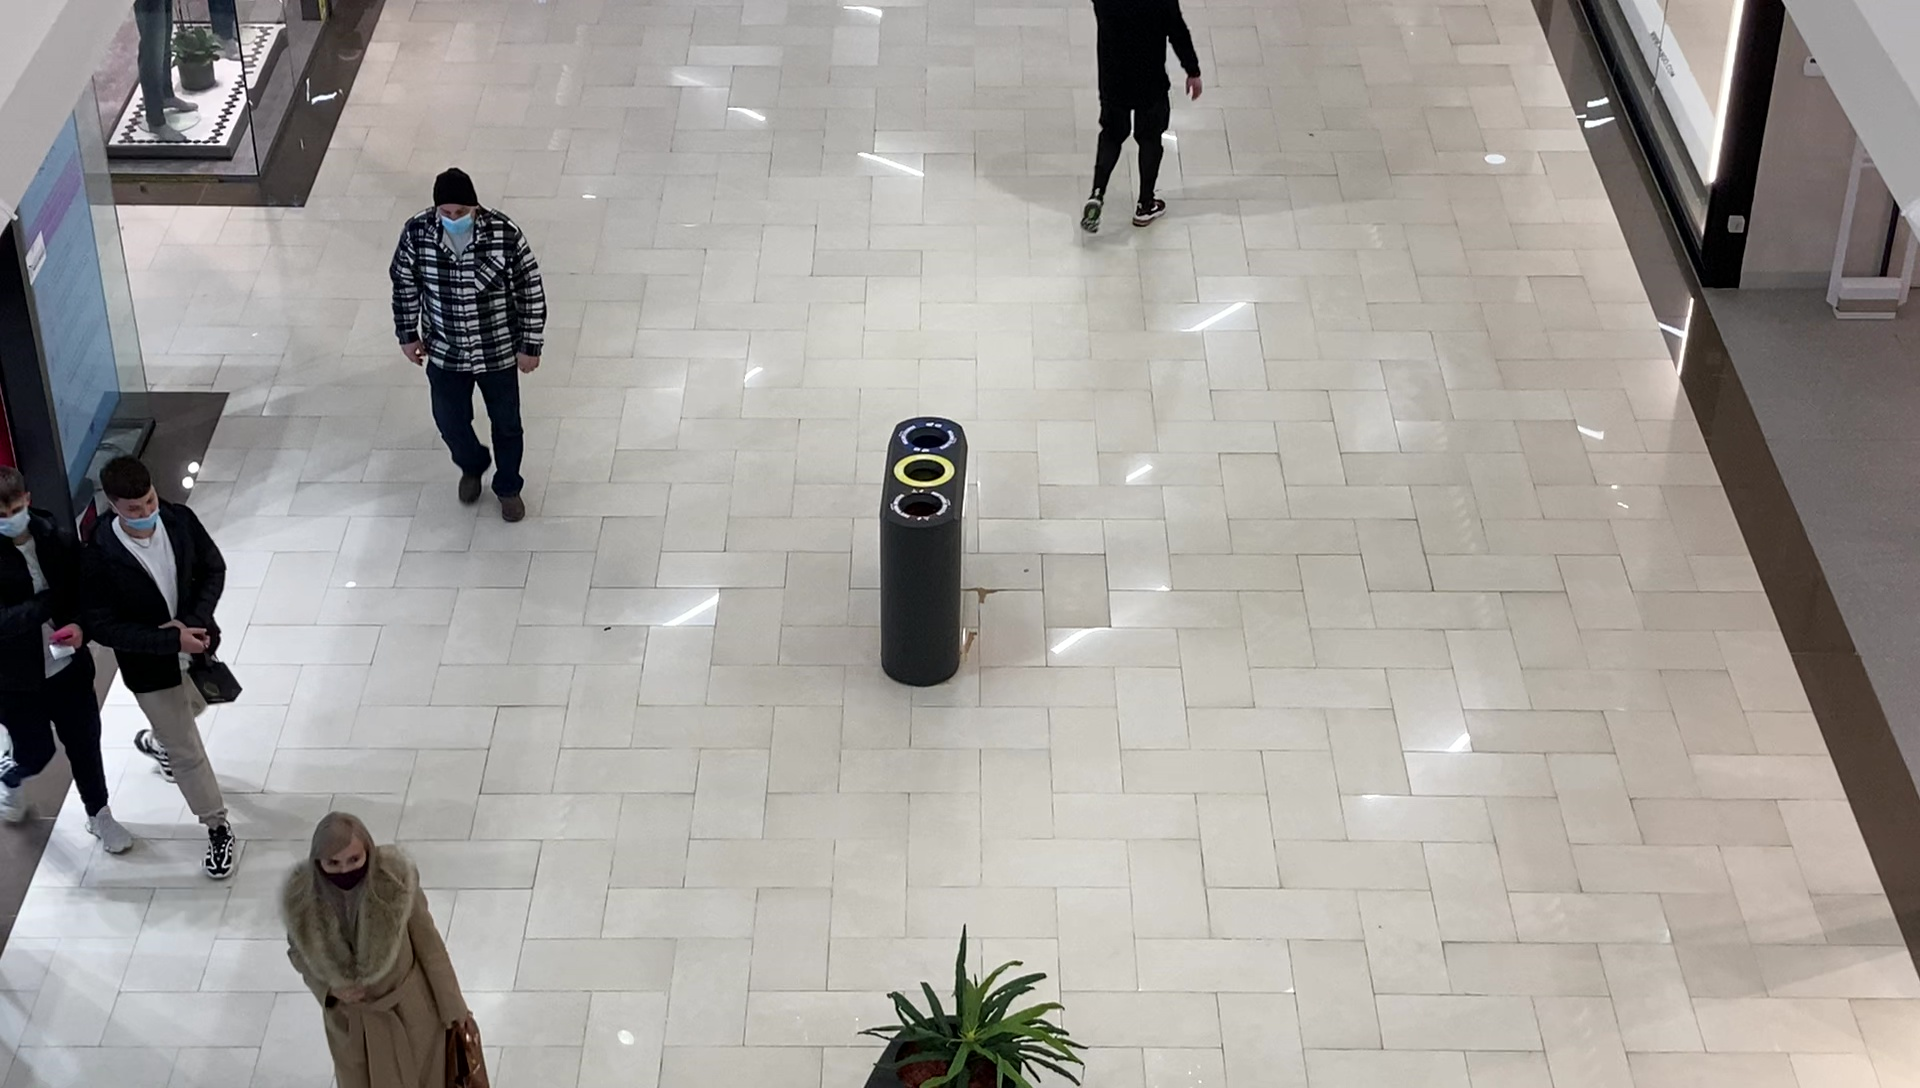person: (75, 457, 244, 880), (387, 168, 550, 526), (280, 811, 476, 1088), (1, 464, 134, 853), (1082, 1, 1203, 234)
